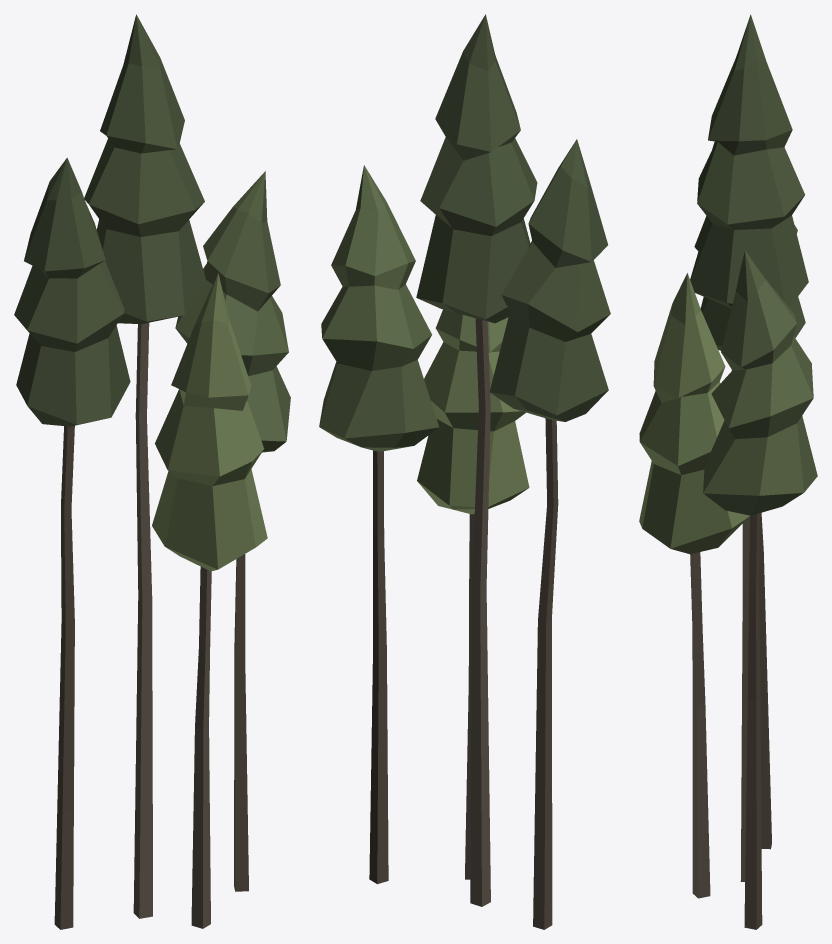
Rendered from env_pines3.gltf.
3 renders of one model, left to right at view 1: azimuth 30°, elevation 25°; view 2: azimuth 150°, elevation 25°; view 3: azimuth 270°, elevation 25°, orthographic. The views are drawn at different scales.
Visible parts, largest first — view 1: env_pines3; view 2: env_pines3; view 3: env_pines3.
Part boxes in pixels (left/top/right/bottom): env_pines3: left=14, top=14, right=290, bottom=929; env_pines3: left=319, top=14, right=610, bottom=929; env_pines3: left=639, top=14, right=817, bottom=929.
Bounding box in the file's own units: 7.46 × 23.19 × 4.35.
Materials: 1 (1 with a texture image).
